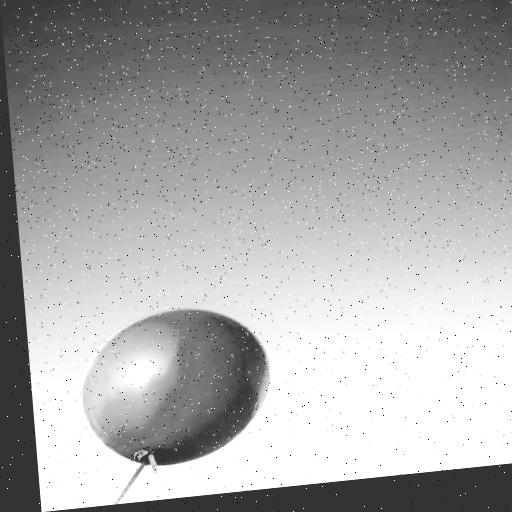balloon: (67, 286, 286, 483)
